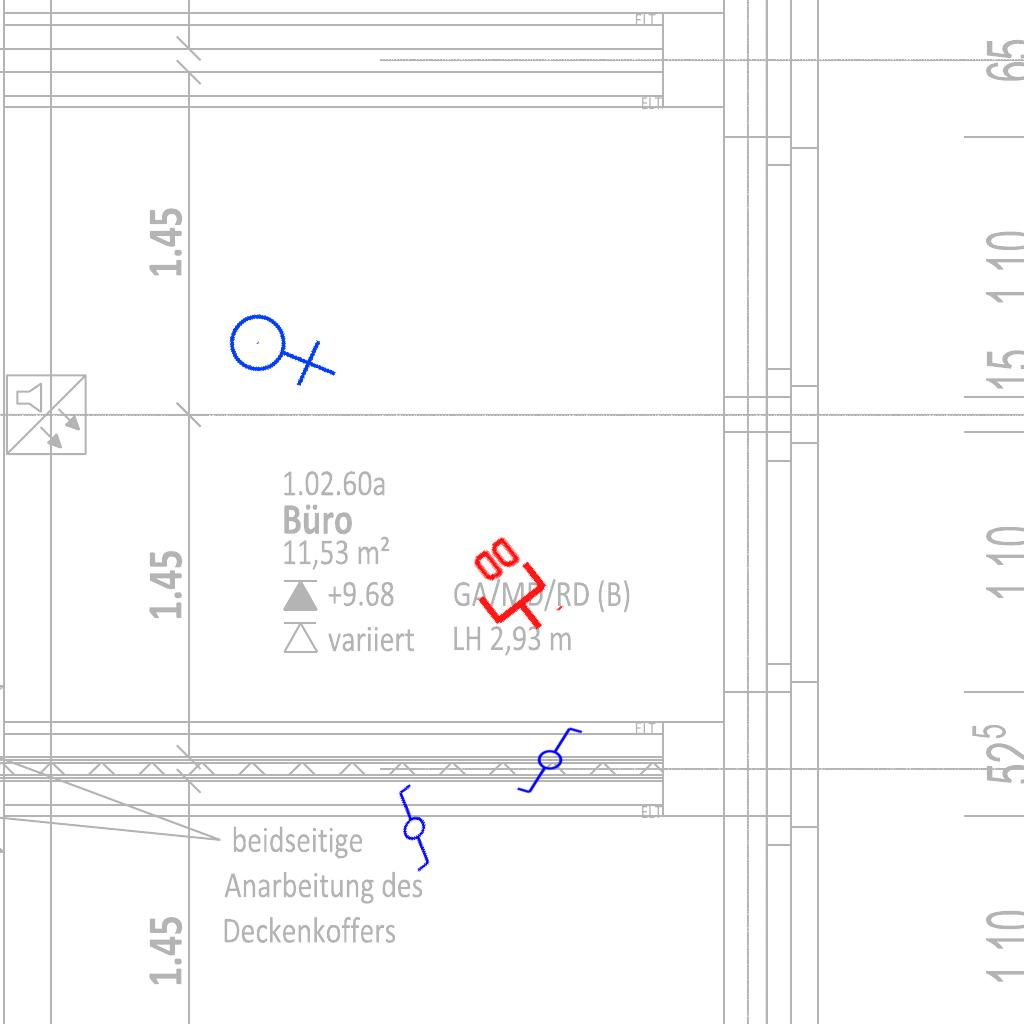Datenanschluss_zweifach: (449, 528, 568, 653)
Elektroanschluss_allgemein_230V_Geraeteanschlussdose_230V: (215, 282, 342, 412)
Wechselschalter: (358, 778, 464, 884), (515, 725, 593, 797)
